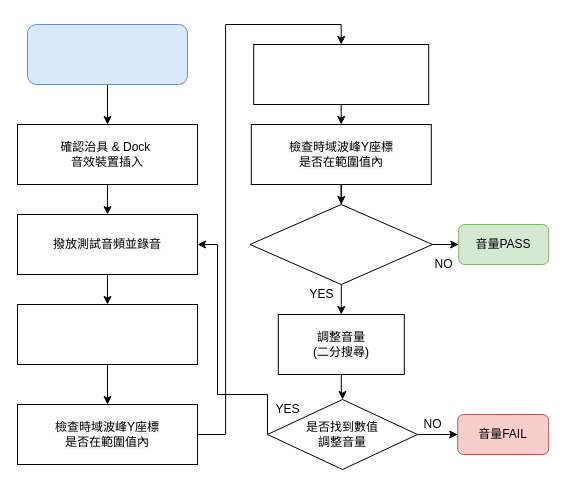
Image size: 567x487. Some labels were removed from this diagram. The centre of each missing label's shape, as x and y in pixels:
分析右聲道錄音頻譜 是否正常: point (341, 74)
分析左聲道錄音頻譜 是否正常: point (107, 334)
分析音量是否 需要放大或放小: point (340, 244)
調整音量: point (107, 54)
